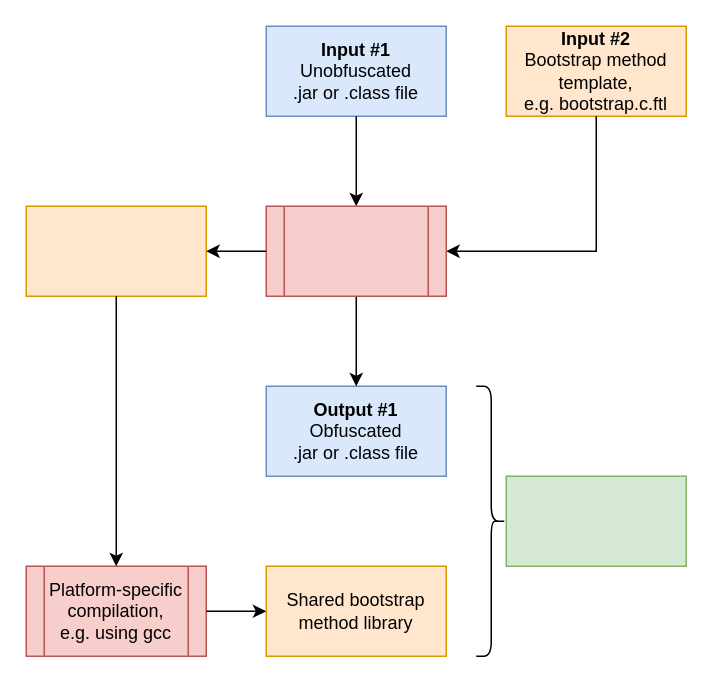
Some shapes in this 713 by 683 pixel diagram are drawn without their labels. The shapes that lost their labels are listed below. From the top down, each one's box as (x1, y1, x2, y2) in pixels, then its label:
(25, 205, 206, 296): Output #2 Processed bootstrap method template, e.g. bootstrap.c
(265, 205, 446, 296): InvokeDynamic obfuscator
(505, 475, 686, 566): Artifacts making up the obfuscated program
